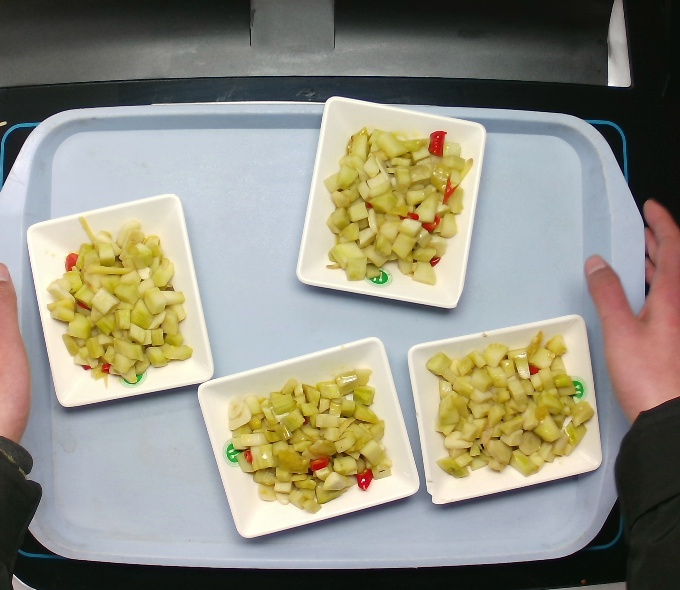wcq-YanHuaCaiGeng: (423, 344, 590, 491), (227, 364, 394, 511), (314, 134, 481, 281), (49, 235, 189, 396)
